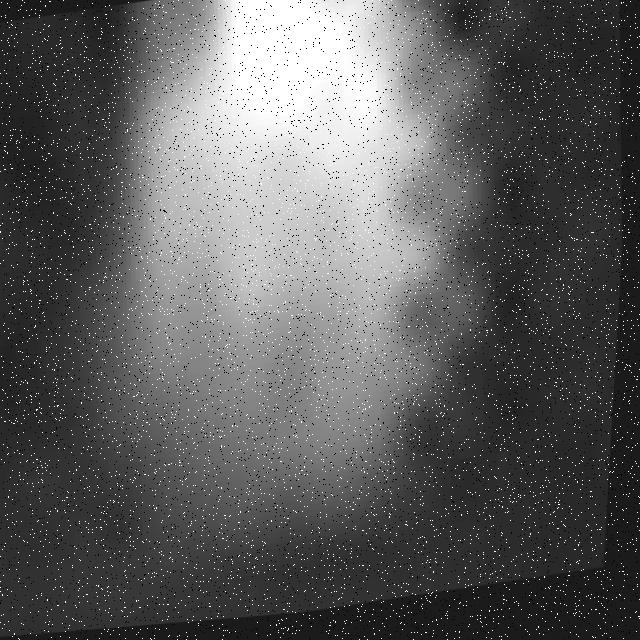person: (87, 1, 458, 589)
